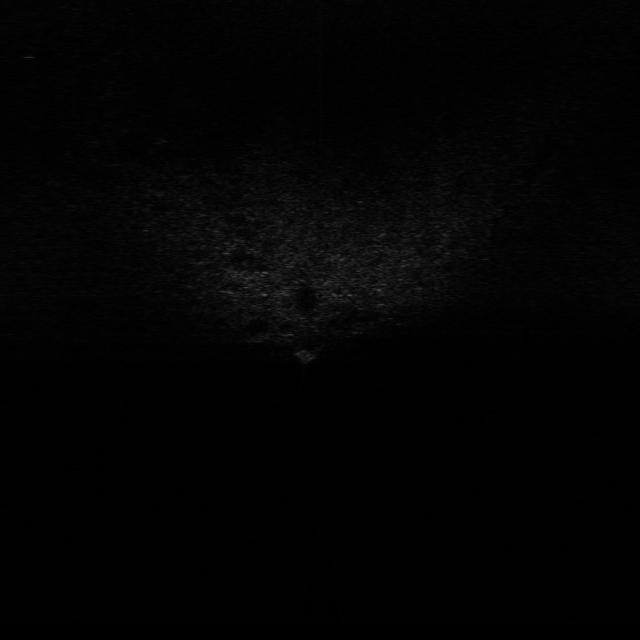cube: (294, 345, 322, 367)
